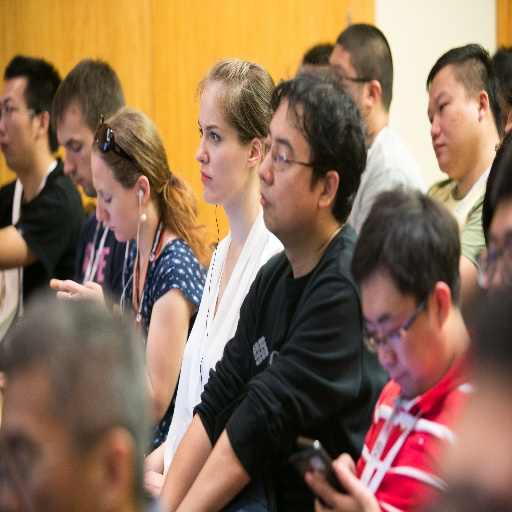hand: (305, 460, 380, 511), (37, 275, 97, 317), (142, 470, 166, 504), (337, 451, 357, 476)
